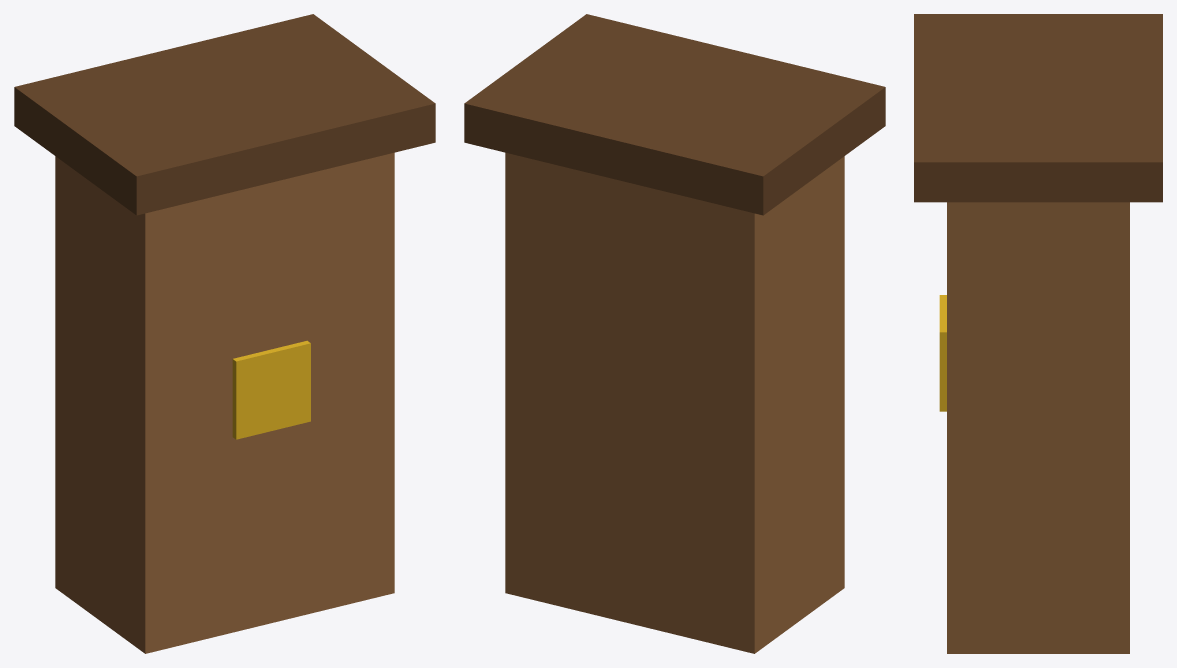
Rendered from podium.glb.
The picture shows the model from 3 angles, left to right: view 1: azimuth 30°, elevation 25°; view 2: azimuth 150°, elevation 25°; view 3: azimuth 270°, elevation 25°; orthographic projection.
Visible parts, largest first — view 1: podium; view 2: podium; view 3: podium.
Boxes of the visible parts, left/top/right/bottom form: podium: left=14, top=14, right=435, bottom=653; podium: left=464, top=14, right=885, bottom=653; podium: left=914, top=14, right=1162, bottom=653.
Bounding box in the file's own units: 0.48 × 0.76 × 0.34.
1 material, 1 textured.
